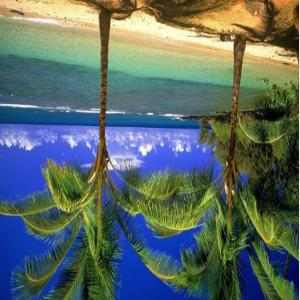palm tree: (0, 0, 225, 298)
